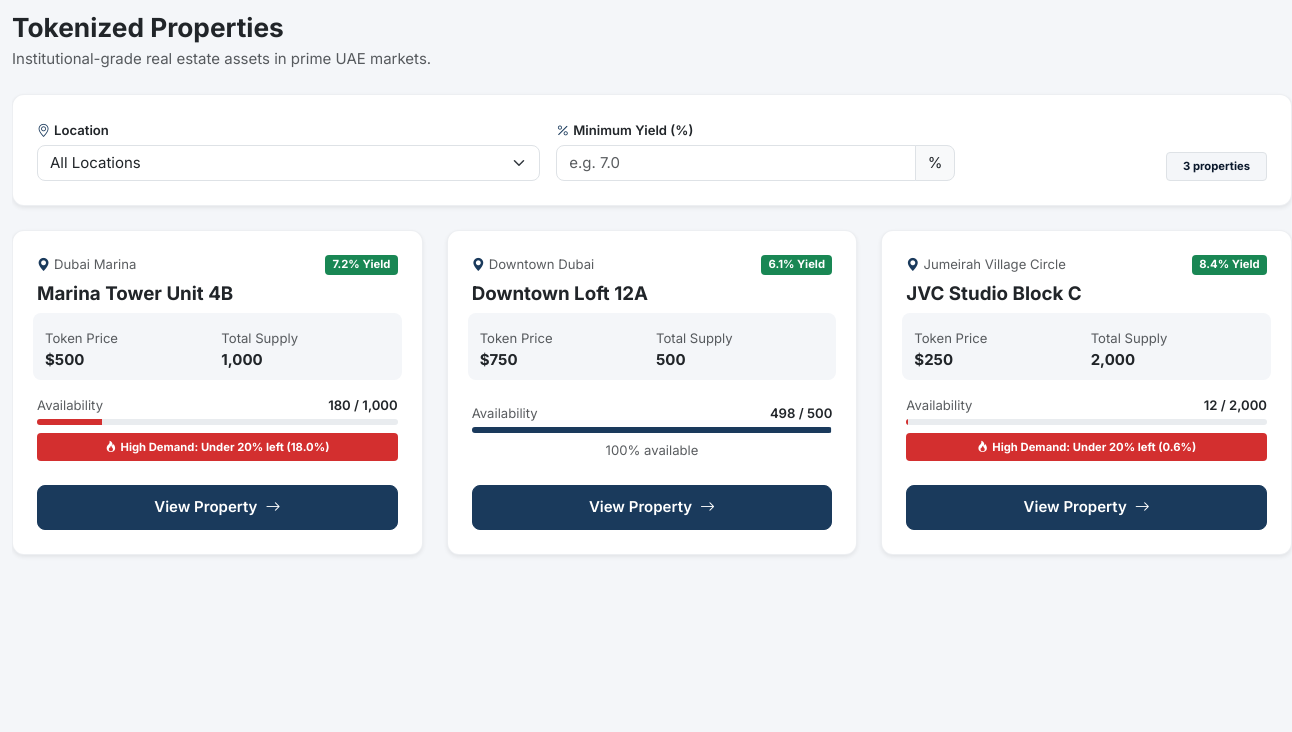
Scenario: PropertyListingPage Component › shows explicit empty state when filters match zero properties
Type "15.0" into the number field named "filter by minimum yield percentage" at (736, 163), box [556,145,916,181]
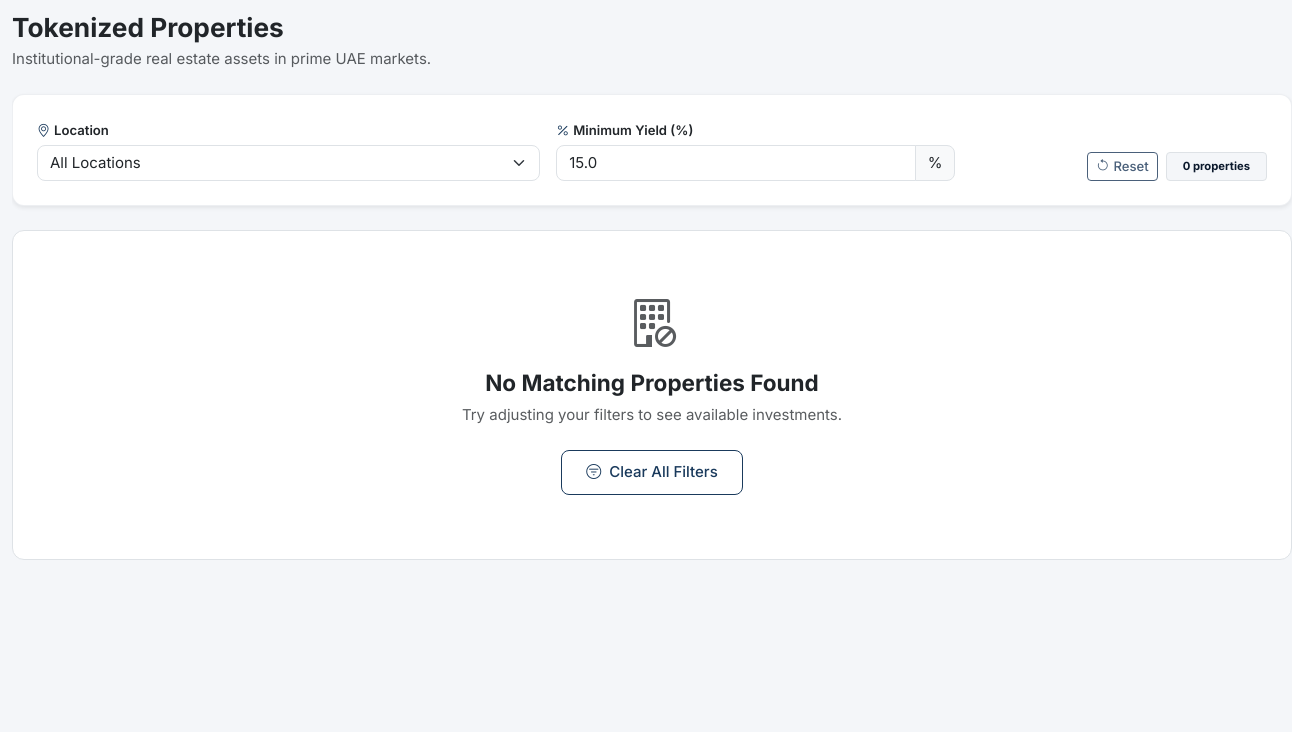
Now the element with test id "empty-state" is shown, box [12,230,1291,560]
Now the heading "No Matching Properties Found" is shown, box [485,369,819,396]
// Click Reset Filters
Click the button "Clear All Filters" at (652, 473), box [561,450,743,495]
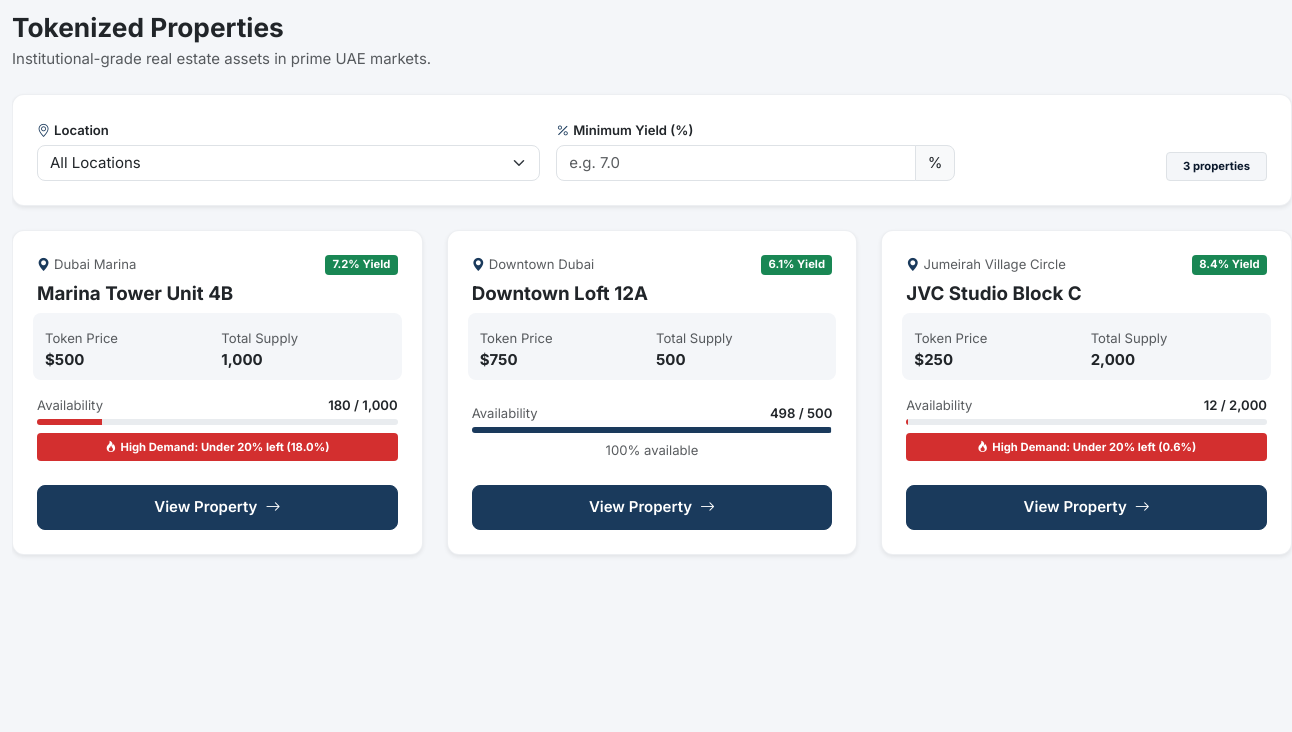
Now the heading "Marina Tower Unit 4B" is shown, box [37,282,233,305]
